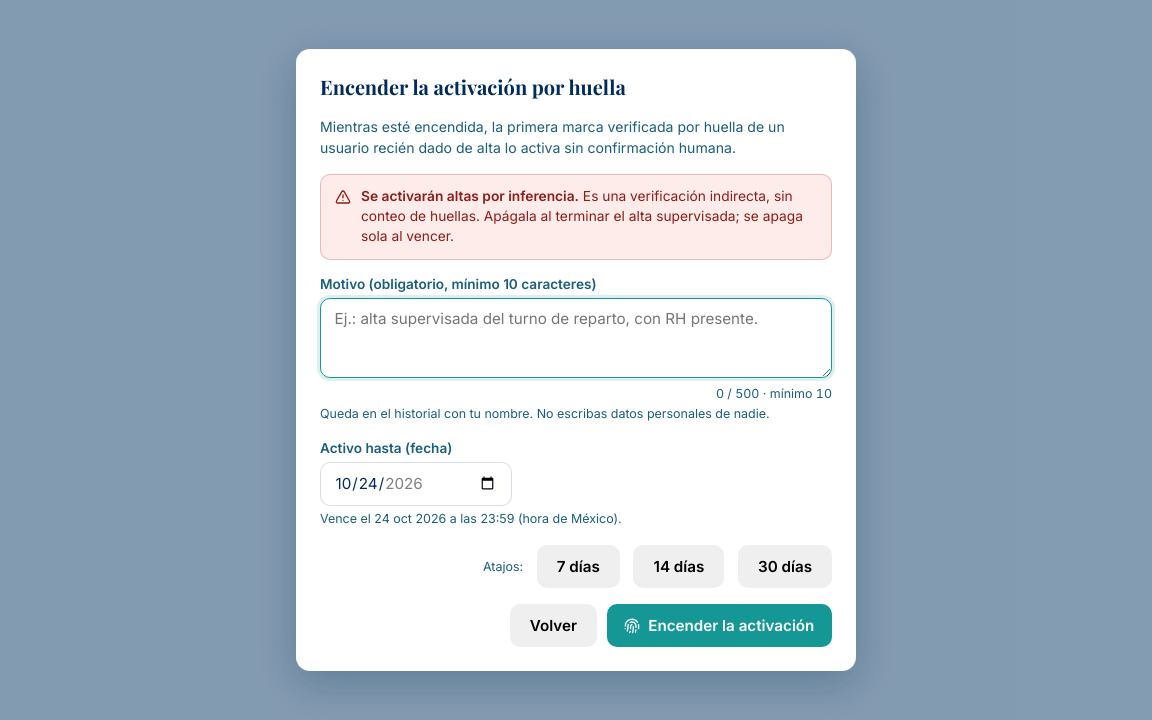
Test: CambiarInterruptorHuellaModal › error 422 {"codigo":"nota_repetida","detail":"x"}: texto fijo y conserva lo escrito
Type "Alta supervisada del turno de reparto, con RH presente." into the text box labelled "Motivo (obligatorio, mínimo 10 caracteres)". click: [576, 338]
box: [320,298,832,378]
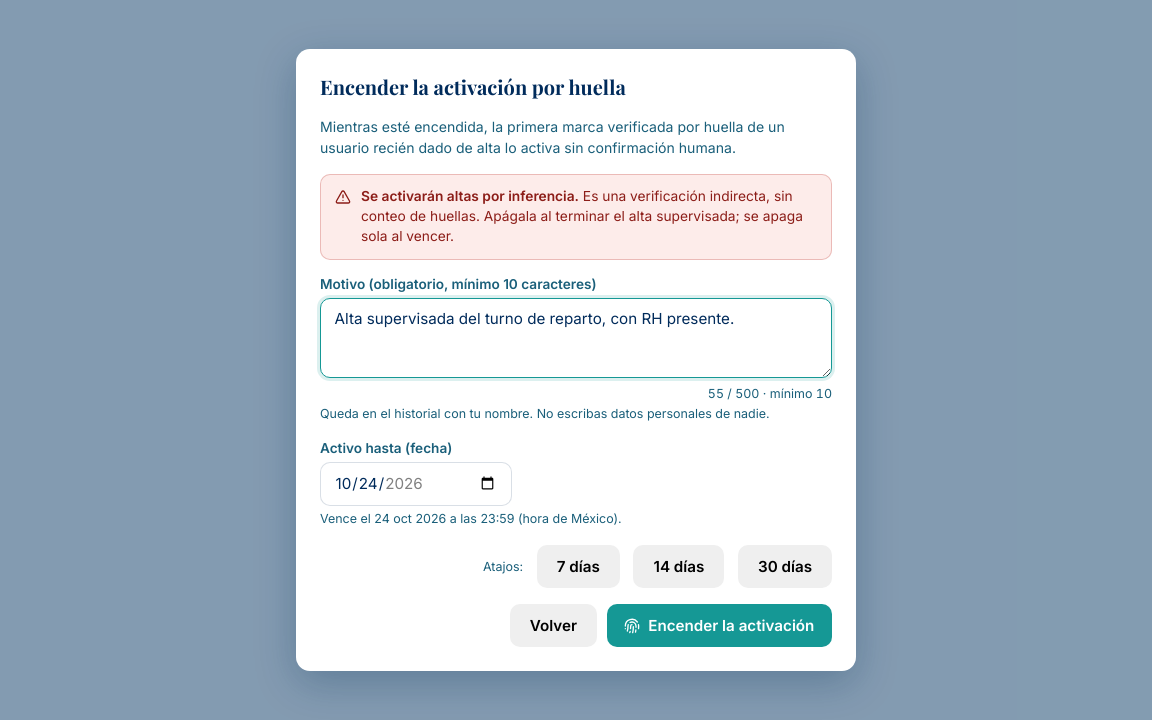
Click the button "Encender la activación". click: [719, 626]
box: [607,604,832,647]
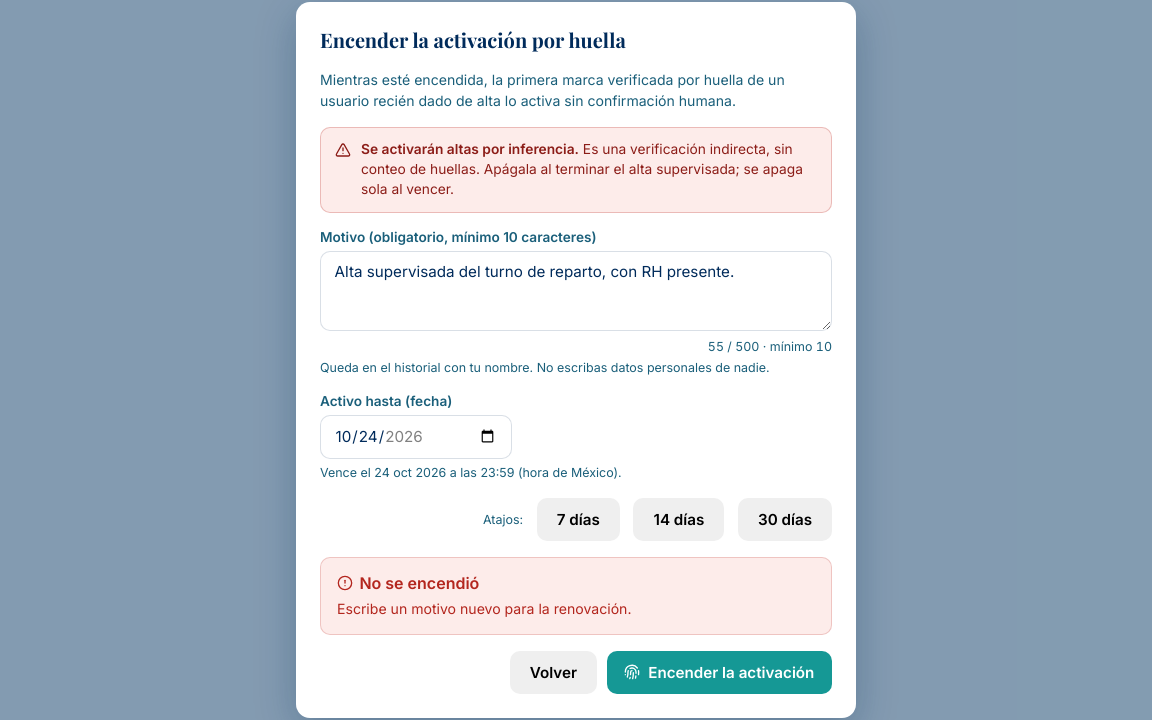
Expected: the button "Encender la activación" is enabled, [607,651,832,694]
Expected: the message shows "Escribe un motivo nuevo para la renovación.", [337,600,632,617]
